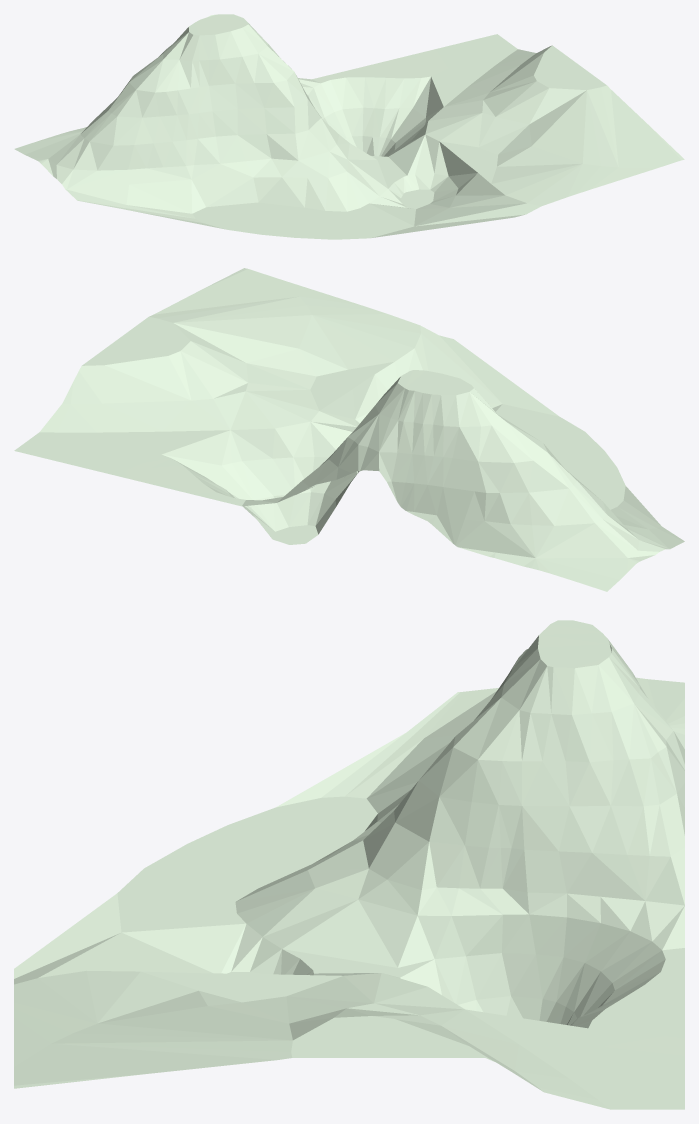
3 views of the same model, one above another, from view 1: azimuth 30°, elevation 25°; view 2: azimuth 150°, elevation 25°; view 3: azimuth 270°, elevation 25° (orthographic). The views are drawn at different scales.
Visible parts, largest first — view 1: 对象025; view 2: 对象025; view 3: 对象025.
Boxes of the visible parts, box(x1,y1,x2,y2) form: 对象025: box(14, 14, 684, 239); 对象025: box(14, 268, 684, 591); 对象025: box(14, 620, 684, 1109).
Bounding box in the file's own units: 50.83 × 16.77 × 34.17.
Materials: 1 (1 with a texture image).
